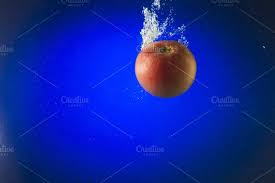tomato: (135, 40, 197, 96)
